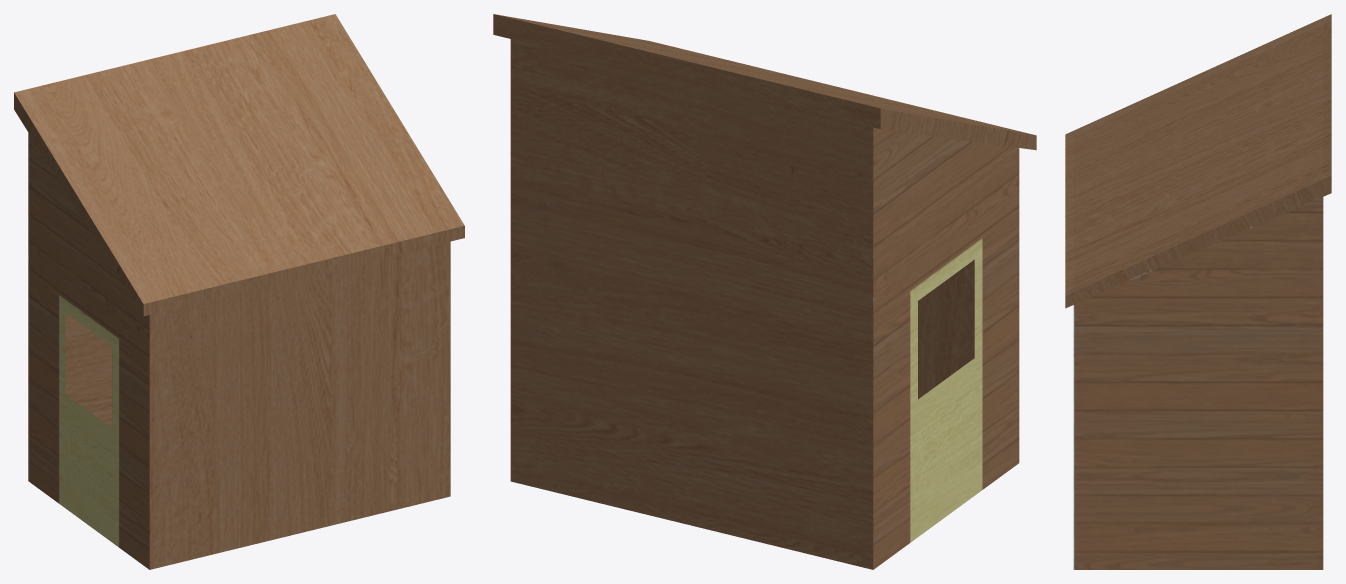
File: CasaTecho.obj
3 renders of one model, left to right at view 1: azimuth 30°, elevation 25°; view 2: azimuth 150°, elevation 25°; view 3: azimuth 270°, elevation 25°, orthographic. The views are drawn at different scales.
Parts seen in each view (by area): view 1: CasaTecho:Material_031; view 2: CasaTecho:Material_031; view 3: CasaTecho:Material_031.
Boxes of the visible parts, x1,y1,x2,y2 form: CasaTecho:Material_031: (14, 14, 464, 569); CasaTecho:Material_031: (493, 14, 1036, 569); CasaTecho:Material_031: (1065, 14, 1331, 569).
Bounding box in the file's own units: 5.87 × 6.78 × 4.09.
1 material, 1 textured.
